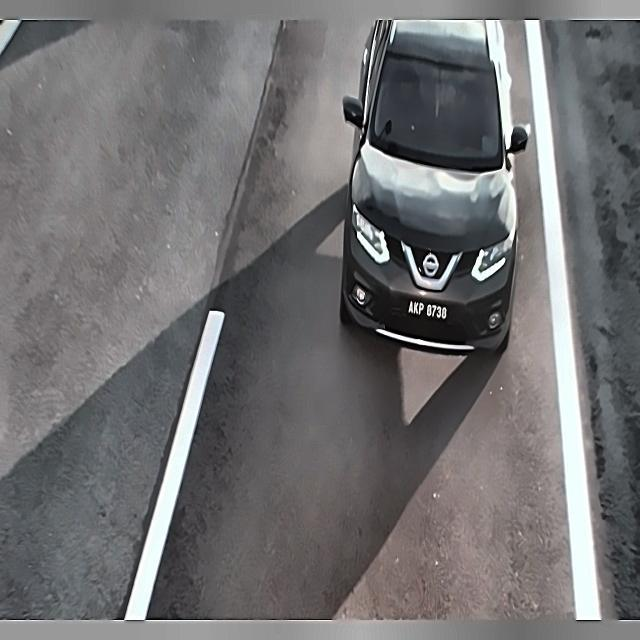car: (399, 293, 460, 328)
